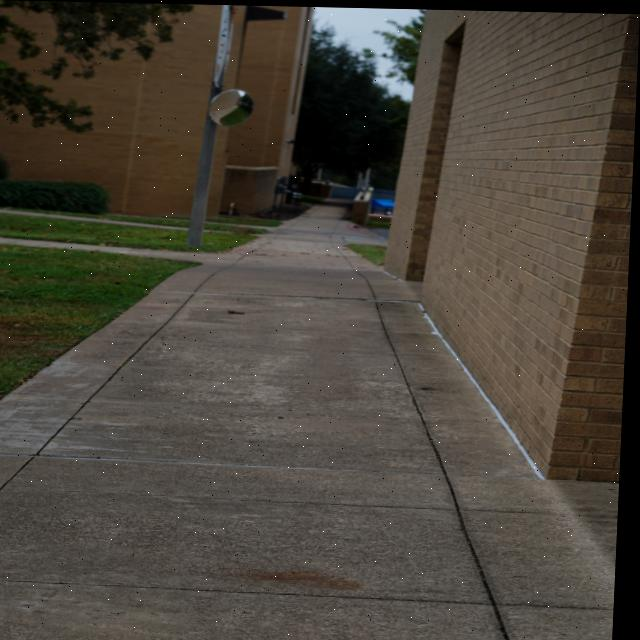Sidewalk: (0, 203, 621, 640), (0, 209, 186, 230)
